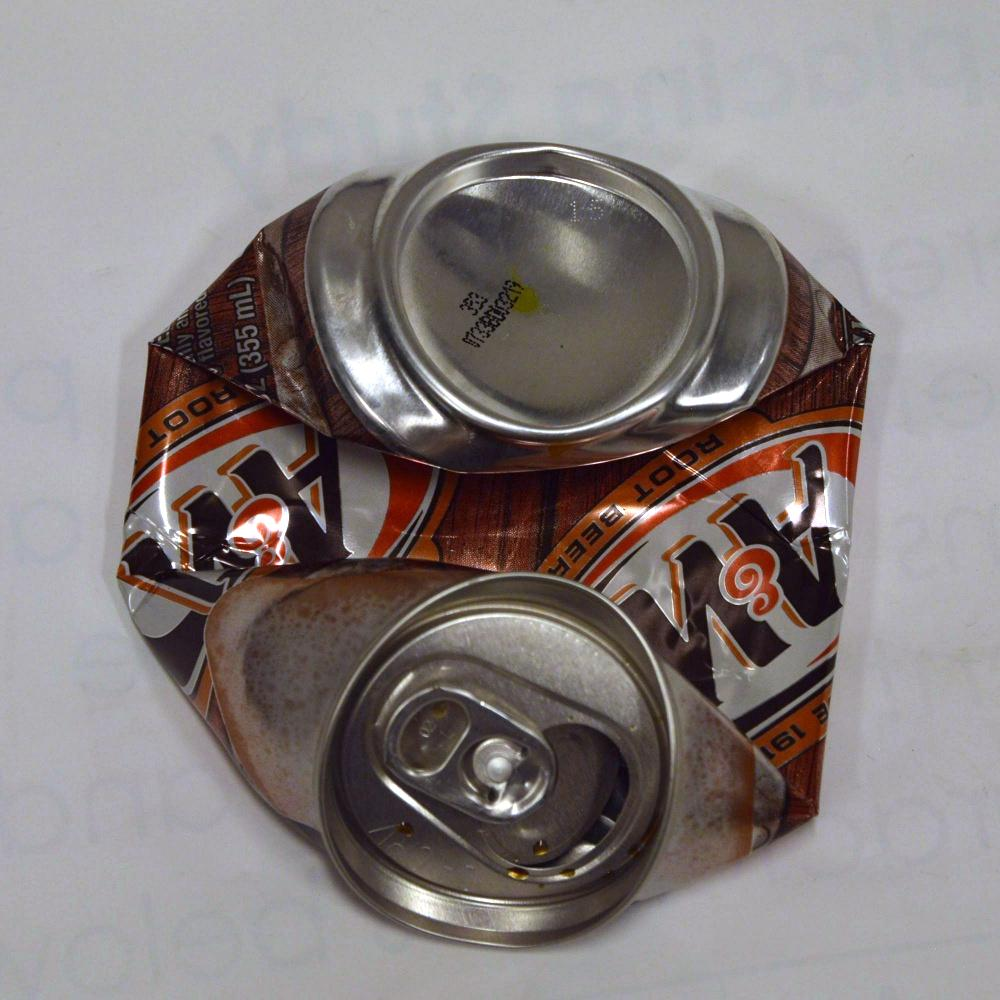Metal: (151, 122, 825, 917)
